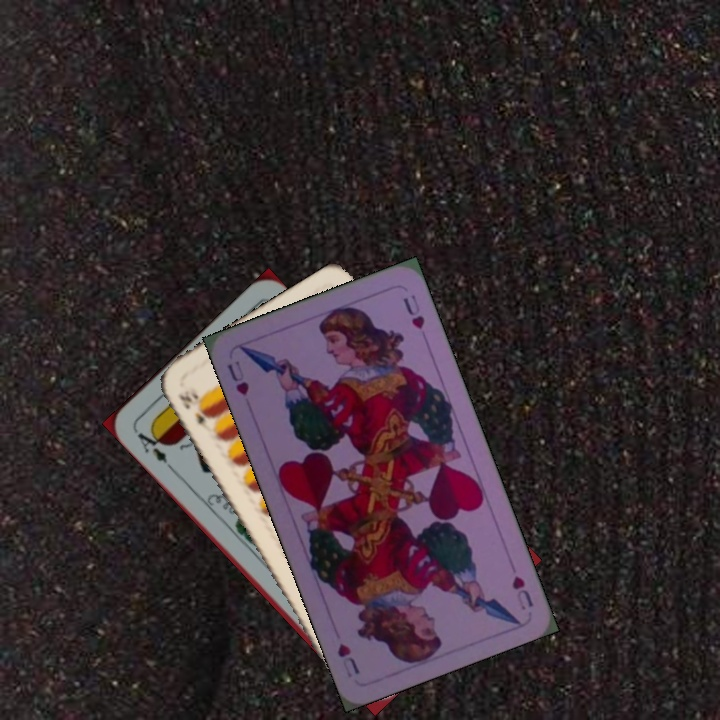E10: (174, 389, 214, 436)
EA: (130, 425, 176, 473)
HU: (507, 571, 536, 613), (223, 357, 252, 398)
